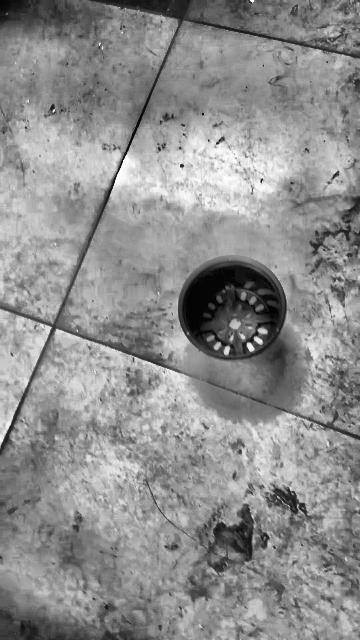pot: (178, 257, 286, 360)
